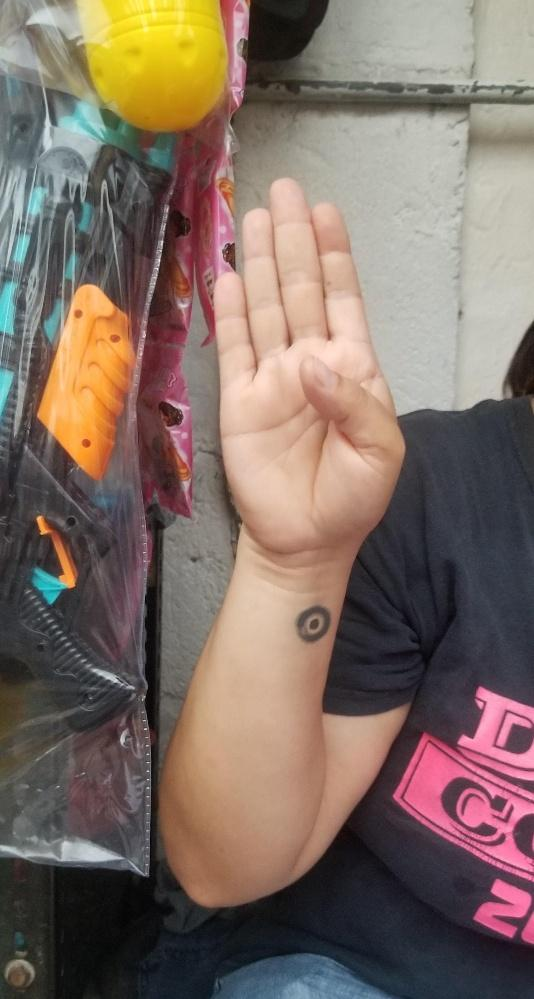b: (215, 173, 405, 541)
